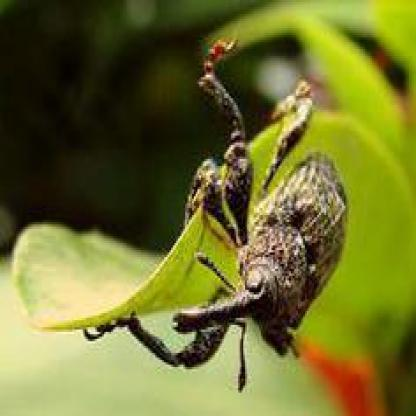rice-bug: (164, 132, 353, 374)
